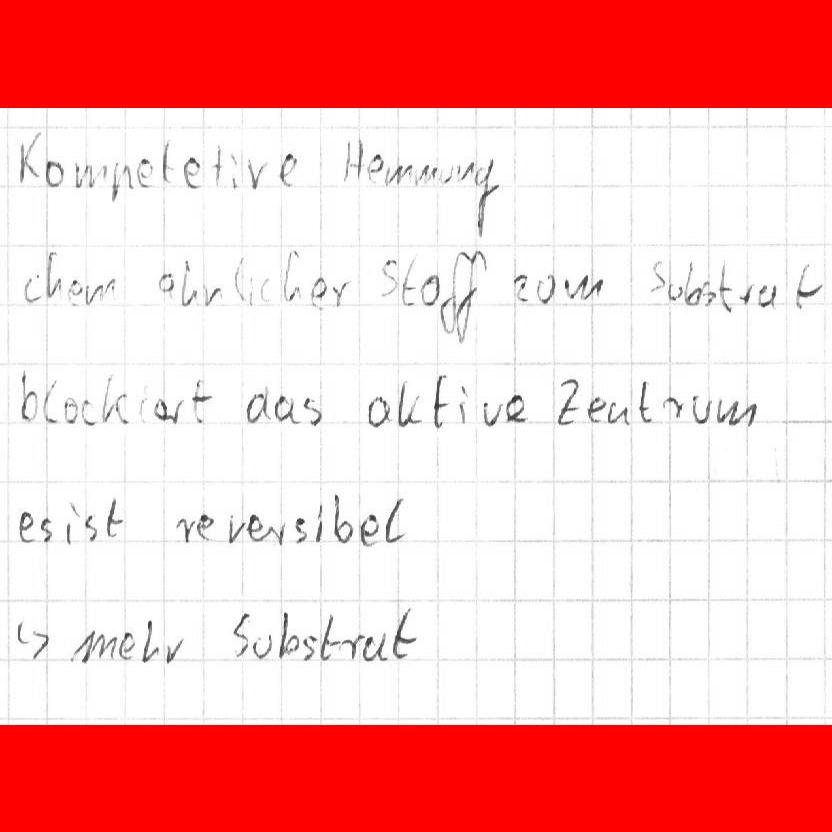Char: (450, 246, 485, 343), (471, 157, 500, 240), (68, 628, 114, 668), (14, 617, 52, 664), (100, 371, 129, 423), (392, 605, 418, 660), (17, 129, 41, 186), (793, 262, 822, 308), (397, 377, 423, 428), (330, 492, 354, 546), (339, 135, 364, 186), (555, 377, 580, 427), (562, 272, 602, 303), (718, 398, 758, 428), (282, 249, 303, 305), (384, 496, 406, 545), (18, 369, 37, 424), (432, 372, 450, 430), (110, 157, 132, 204), (278, 611, 299, 658), (399, 258, 419, 307), (715, 260, 734, 311), (365, 391, 391, 428), (84, 276, 115, 307), (44, 250, 63, 300), (231, 611, 251, 658), (318, 612, 337, 661), (244, 388, 269, 425), (191, 376, 212, 420), (180, 258, 198, 308), (377, 259, 399, 299), (233, 257, 251, 305), (159, 139, 176, 187), (103, 497, 122, 539), (636, 378, 653, 424), (363, 633, 389, 663), (277, 149, 298, 186), (43, 377, 59, 425), (140, 618, 157, 663), (245, 158, 268, 190), (273, 393, 296, 425), (359, 512, 380, 547), (72, 160, 96, 190), (647, 260, 666, 297), (182, 155, 203, 188), (504, 393, 527, 423), (173, 513, 193, 547), (457, 383, 473, 425), (757, 281, 780, 310), (227, 511, 246, 546), (535, 273, 555, 306), (21, 273, 42, 304), (136, 155, 155, 189), (211, 143, 226, 186), (690, 394, 711, 424), (117, 628, 135, 663), (420, 274, 439, 307), (511, 272, 530, 305), (302, 394, 322, 425), (481, 399, 503, 427), (17, 509, 35, 543), (44, 158, 63, 190), (64, 500, 78, 543), (386, 161, 410, 186), (309, 274, 327, 307), (80, 509, 98, 542), (339, 633, 360, 661), (607, 400, 631, 424), (662, 394, 685, 419), (414, 162, 439, 185), (684, 262, 698, 303), (163, 637, 182, 667), (251, 633, 272, 660), (248, 510, 266, 541), (80, 398, 99, 427), (586, 394, 606, 421), (332, 280, 351, 308), (196, 512, 215, 540), (155, 269, 176, 294), (266, 520, 286, 546), (61, 395, 78, 425), (366, 152, 384, 180), (202, 282, 221, 308), (151, 396, 169, 423), (301, 633, 317, 663), (313, 502, 325, 542), (255, 277, 274, 302), (169, 399, 187, 424), (67, 278, 84, 304), (228, 151, 239, 191), (738, 282, 756, 306), (455, 161, 475, 182), (698, 283, 714, 306), (295, 517, 309, 543), (438, 163, 454, 185), (40, 516, 53, 543), (667, 283, 683, 302)
